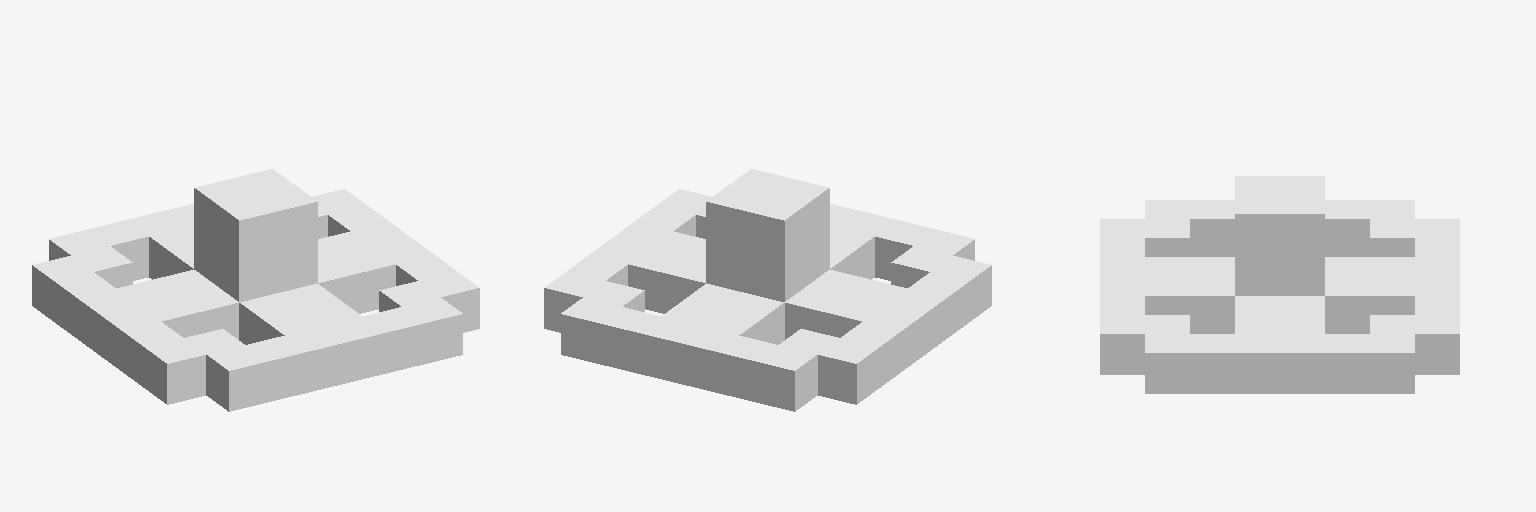
The model's file is cannon_base.obj.
3 renders of one model, left to right at view 1: azimuth 30°, elevation 25°; view 2: azimuth 150°, elevation 25°; view 3: azimuth 270°, elevation 25°, orthographic.
Visible parts, largest first — view 1: object 1; view 2: object 1; view 3: object 1.
Part boxes in pixels (x1,y1,x2,y2): object 1: (32,169,479,411); object 1: (544,169,991,411); object 1: (1100,176,1459,393).
Bounding box in the file's own units: 0.8 × 0.3 × 0.8.